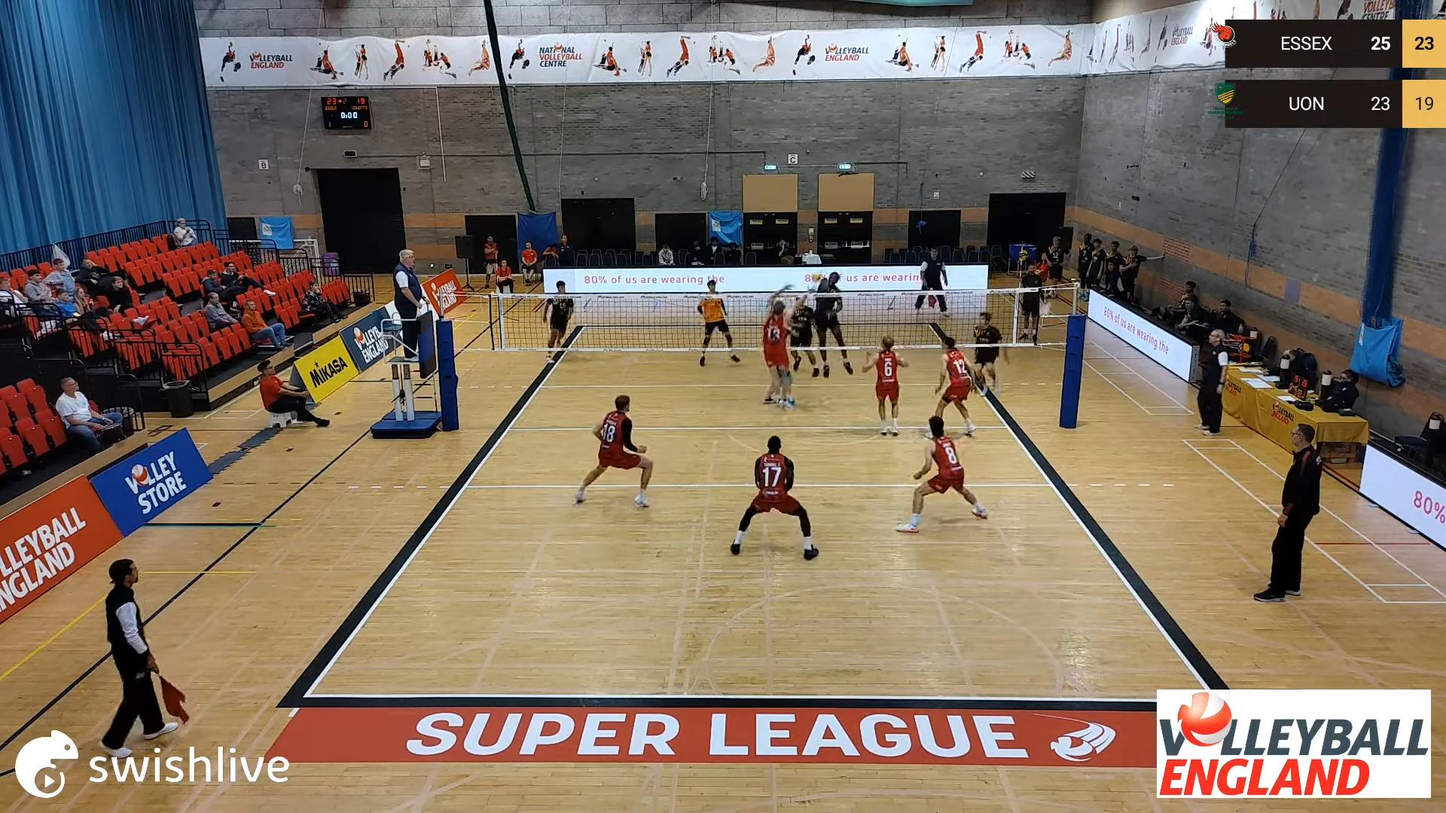attacco: (810, 267, 860, 382)
muro: (762, 282, 813, 410)
